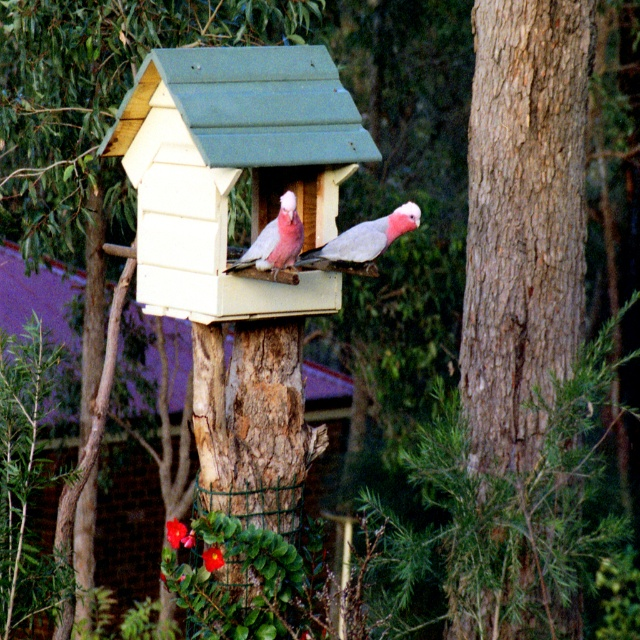Parrot: (294, 201, 421, 275), (221, 191, 304, 282)
